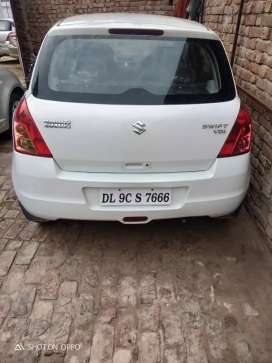license_plate: (101, 191, 171, 204)
